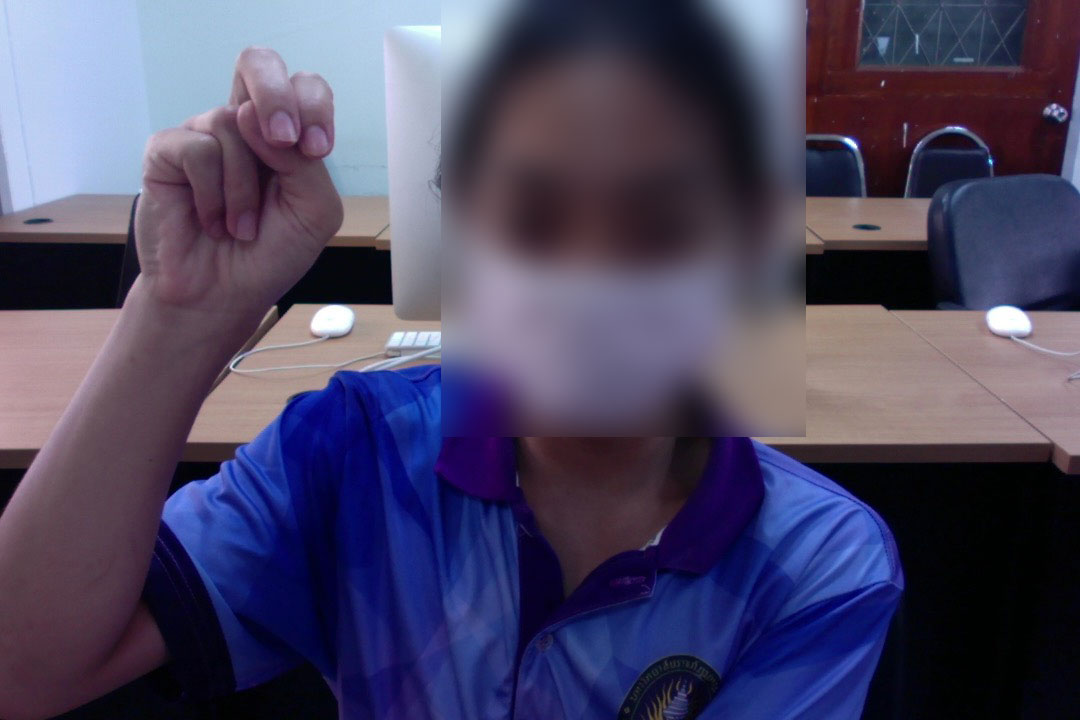nor: (117, 36, 351, 349)
